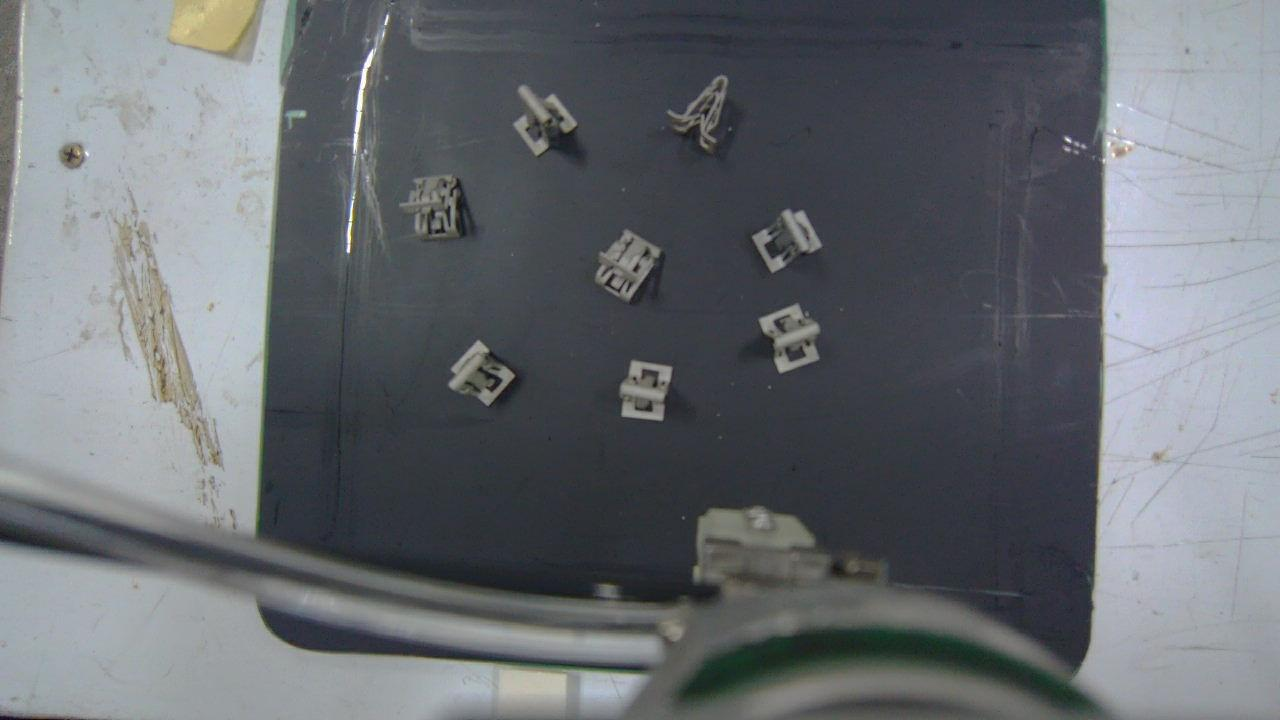ng: (594, 231, 662, 304), (668, 75, 726, 156), (749, 211, 820, 275), (450, 340, 514, 407), (398, 177, 462, 239)
pass: (514, 85, 576, 157), (760, 304, 819, 373), (620, 360, 673, 422)
